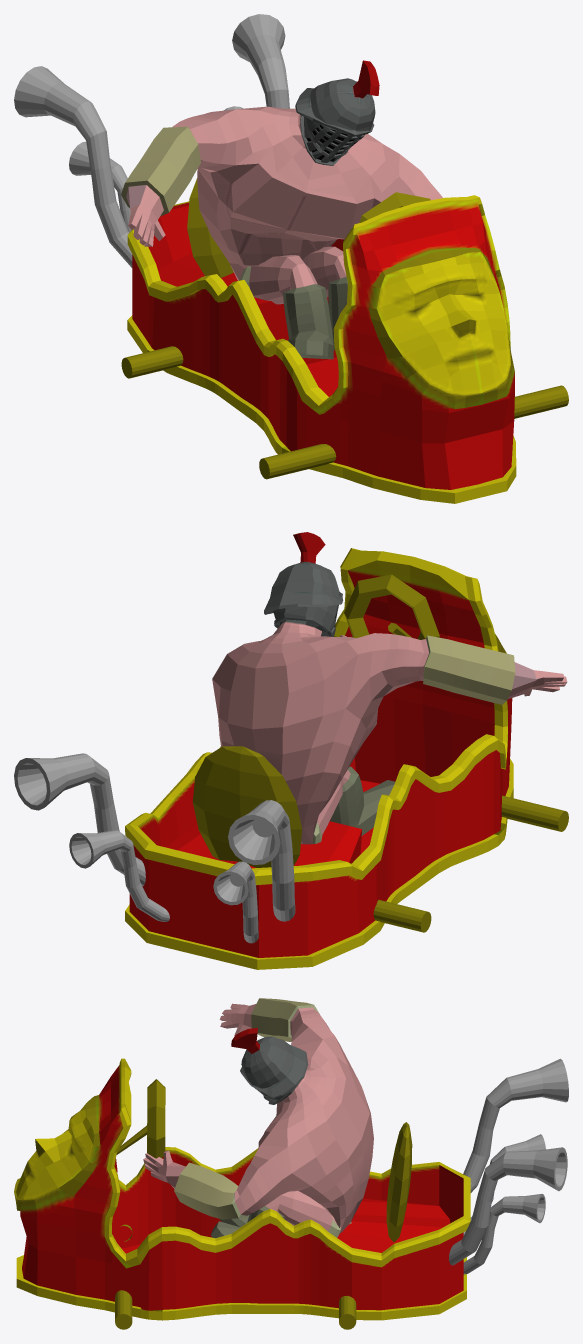
The model's file is gladiVacile_000554.obj.
3 renders of one model, top to bottom at view 1: azimuth 30°, elevation 25°; view 2: azimuth 150°, elevation 25°; view 3: azimuth 270°, elevation 25°, orthographic. The views are drawn at different scales.
Parts seen in each view (by area): view 1: GladiChasis_GladiChasisH, Gadiador_Gladiador_H.001, GladiTubos_GladiTubosH, GladiVolante_GladiVolanteH; view 2: GladiChasis_GladiChasisH, Gadiador_Gladiador_H.001, GladiTubos_GladiTubosH, GladiVolante_GladiVolanteH; view 3: GladiChasis_GladiChasisH, Gadiador_Gladiador_H.001, GladiTubos_GladiTubosH, GladiVolante_GladiVolanteH.
Boxes of the visible parts, bbox=[...] form: GladiChasis_GladiChasisH: bbox=[127, 195, 516, 503]; Gadiador_Gladiador_H.001: bbox=[121, 60, 442, 359]; GladiTubos_GladiTubosH: bbox=[14, 14, 289, 267]; GladiVolante_GladiVolanteH: bbox=[121, 178, 568, 479]; GladiChasis_GladiChasisH: bbox=[125, 548, 513, 969]; Gadiador_Gladiador_H.001: bbox=[212, 532, 567, 844]; GladiTubos_GladiTubosH: bbox=[14, 753, 295, 943]; GladiVolante_GladiVolanteH: bbox=[192, 574, 568, 932]; GladiChasis_GladiChasisH: bbox=[14, 1058, 470, 1320]; Gadiador_Gladiador_H.001: bbox=[143, 998, 373, 1238]; GladiTubos_GladiTubosH: bbox=[449, 1058, 568, 1274]; GladiVolante_GladiVolanteH: bbox=[115, 1079, 412, 1329].
Bounding box in the file's own units: 6.71 × 5.6 × 10.78.
